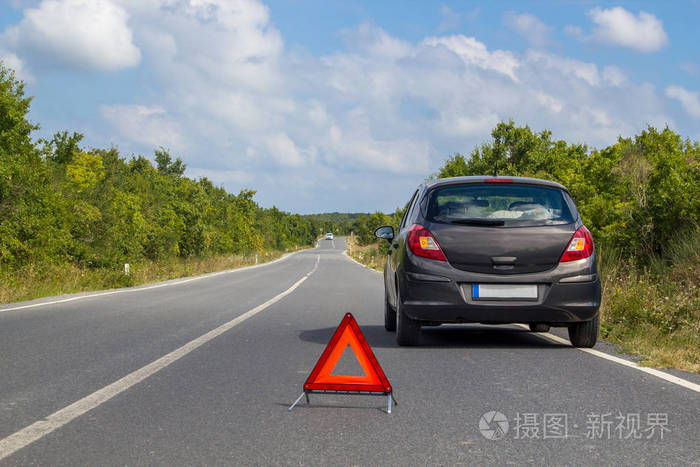car: (380, 169, 596, 349)
